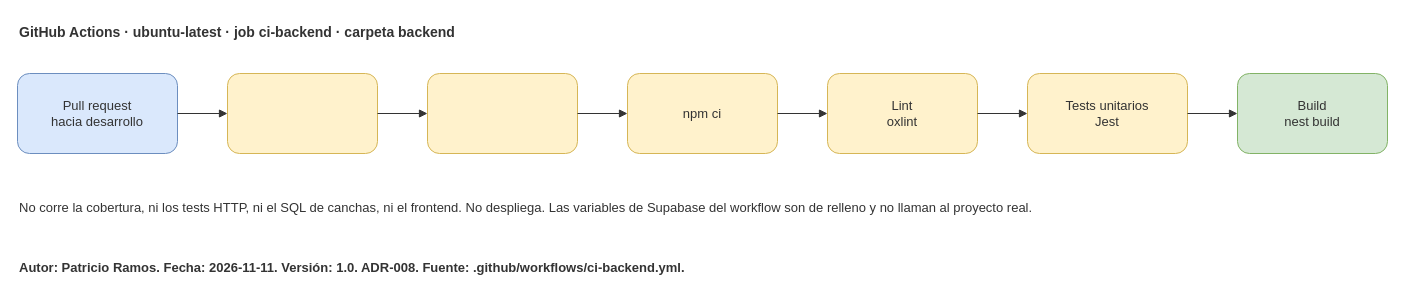
Image size: 1405x294. Some labels were removed from this diagram. Each missing label, with the box of its shape:
Checkout: (226, 72, 378, 154)
Node.js 24: (426, 72, 578, 154)
